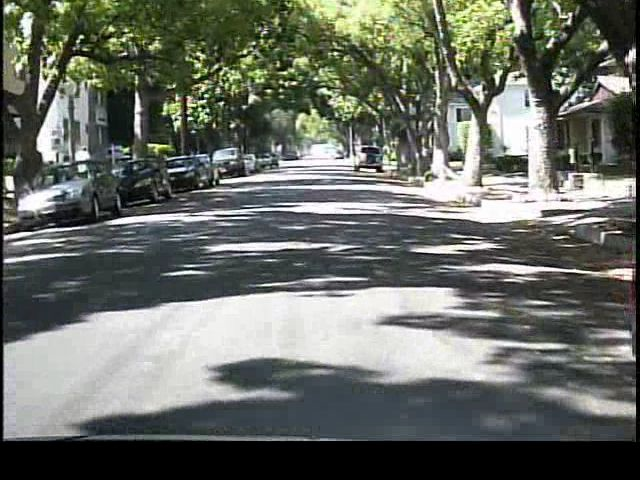person: (73, 143, 100, 197)
